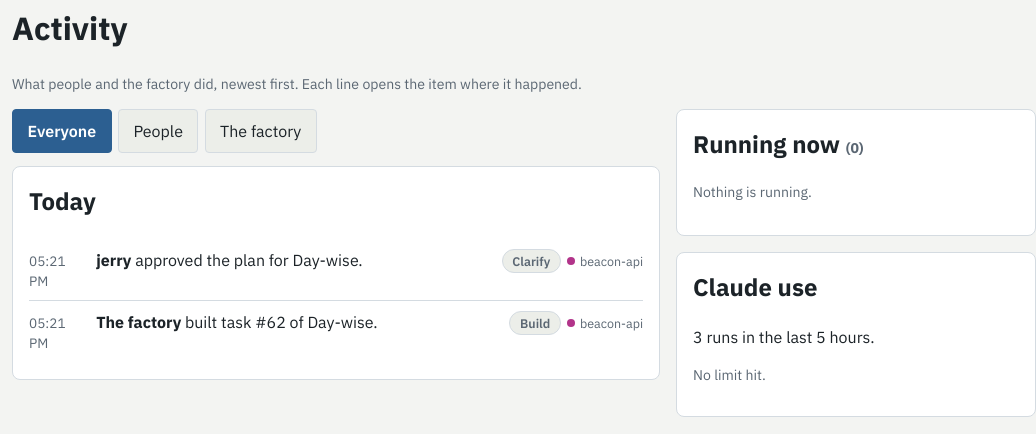
Test: ActivityPage › lists the lines under today and filters by who
Expected: the heading "Today" is shown, 29,185 -> 96,217
Expected: the text "approved the plan for Day-wise." is shown, 135,250 -> 363,270
Click the button "People".
click(158, 131)  # box 118,109 -> 198,153
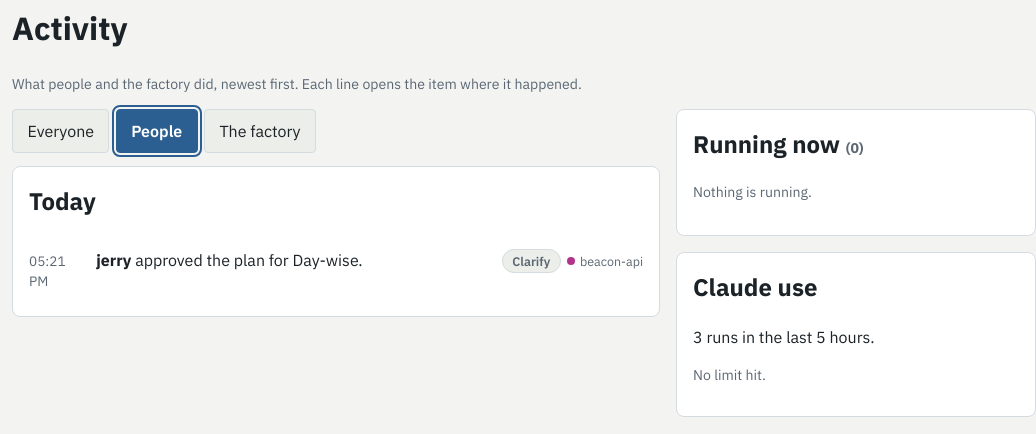
Expected: the text "3 runs in the last 5 hours." is shown, 693,327 -> 875,347
Result: the link "built task #62 of Day-wise." is gone
